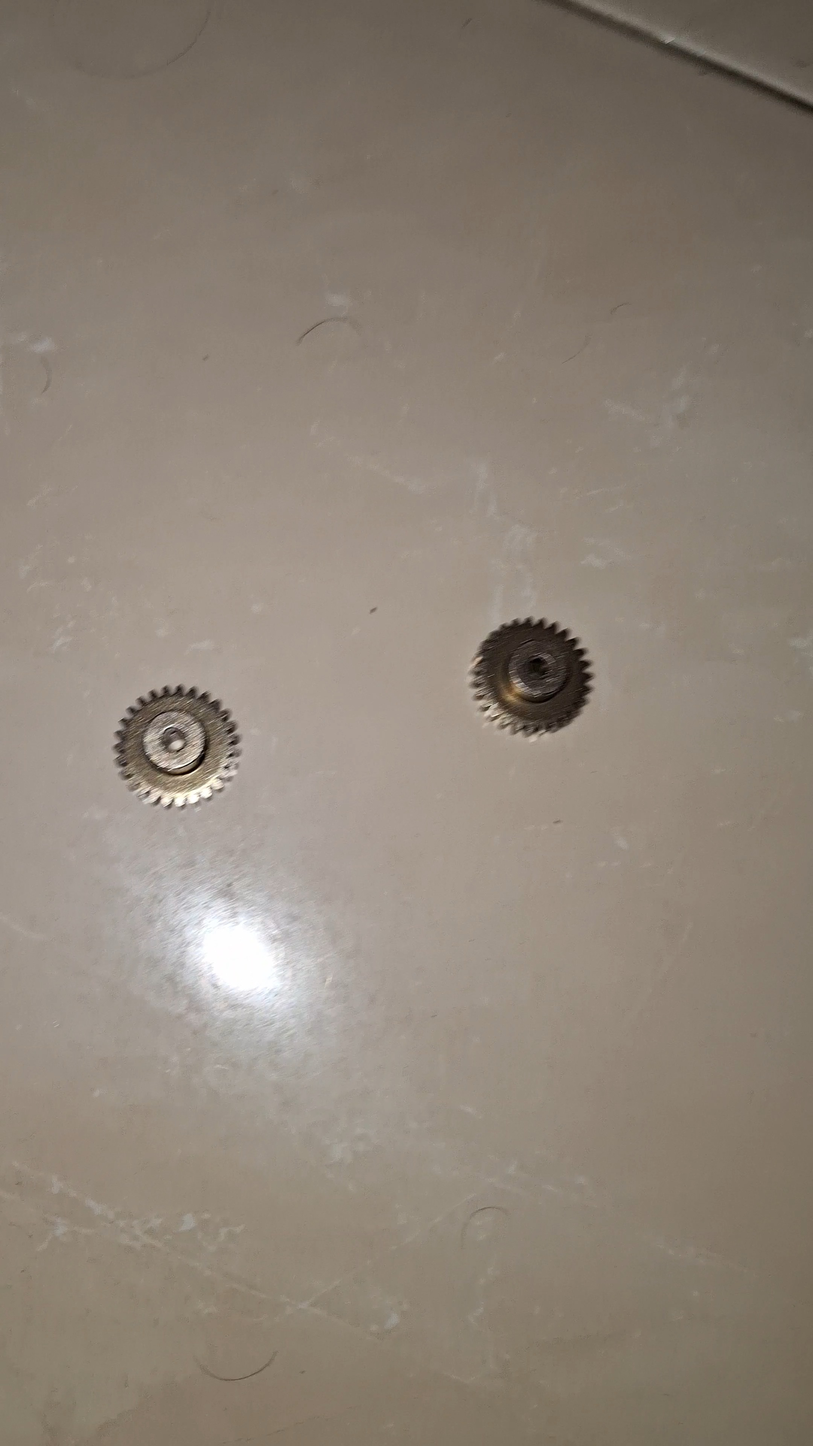spur gear: (115, 686, 239, 807), (470, 618, 590, 735)
